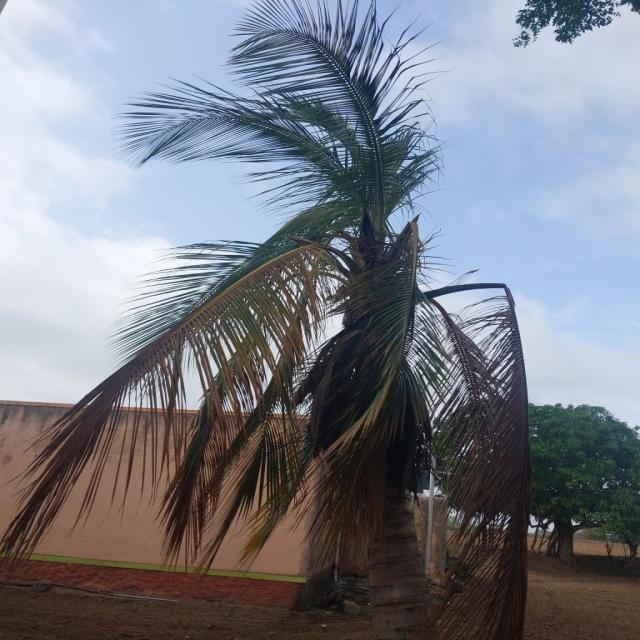bud root dropping: (3, 0, 530, 640)
